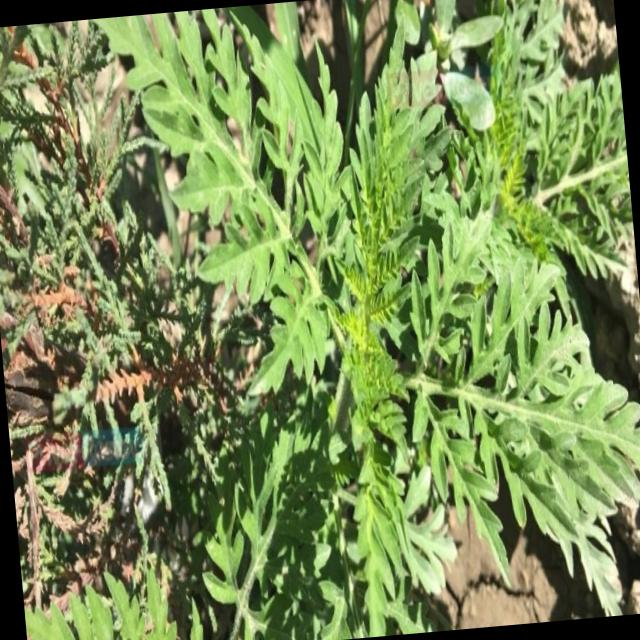ambrosia: (140, 0, 607, 605)
